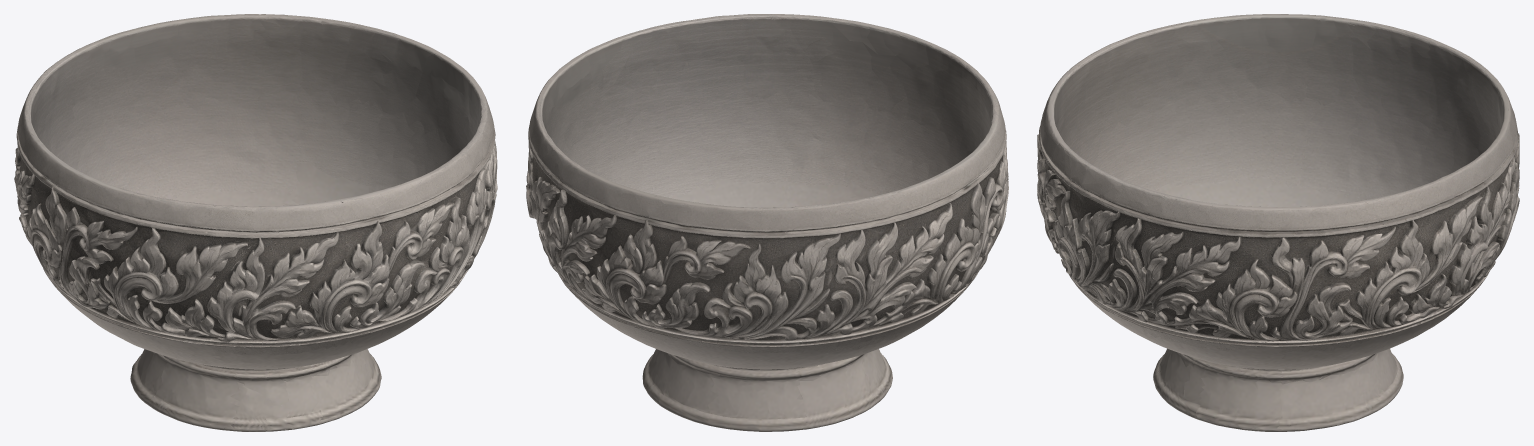
The model's file is original-bowl.glb.
3 renders of one model, left to right at view 1: azimuth 30°, elevation 25°; view 2: azimuth 150°, elevation 25°; view 3: azimuth 270°, elevation 25°, orthographic.
Parts seen in each view (by area): view 1: Mesh_0; view 2: Mesh_0; view 3: Mesh_0.
Boxes of the visible parts, bbox=[...] form: Mesh_0: bbox=[14, 14, 497, 431]; Mesh_0: bbox=[526, 14, 1008, 431]; Mesh_0: bbox=[1037, 14, 1519, 431].
Bounding box in the file's own units: 1.9 × 1.17 × 1.9.
1 material, 1 textured.
